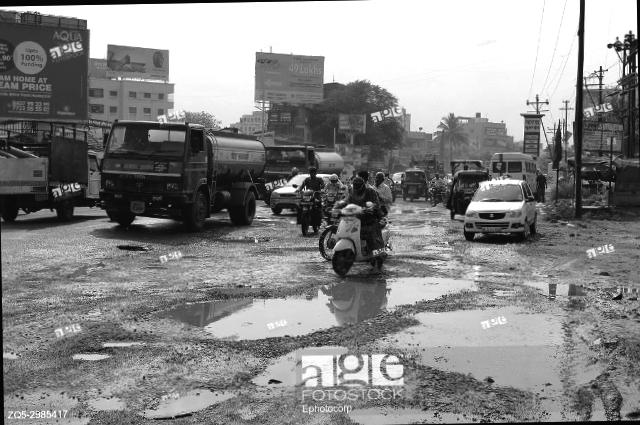Pothole: (371, 290, 640, 424), (136, 270, 490, 345), (234, 323, 383, 391), (3, 371, 118, 425), (126, 370, 238, 425), (63, 334, 152, 366), (392, 243, 453, 279), (214, 226, 273, 253), (114, 240, 160, 264)
